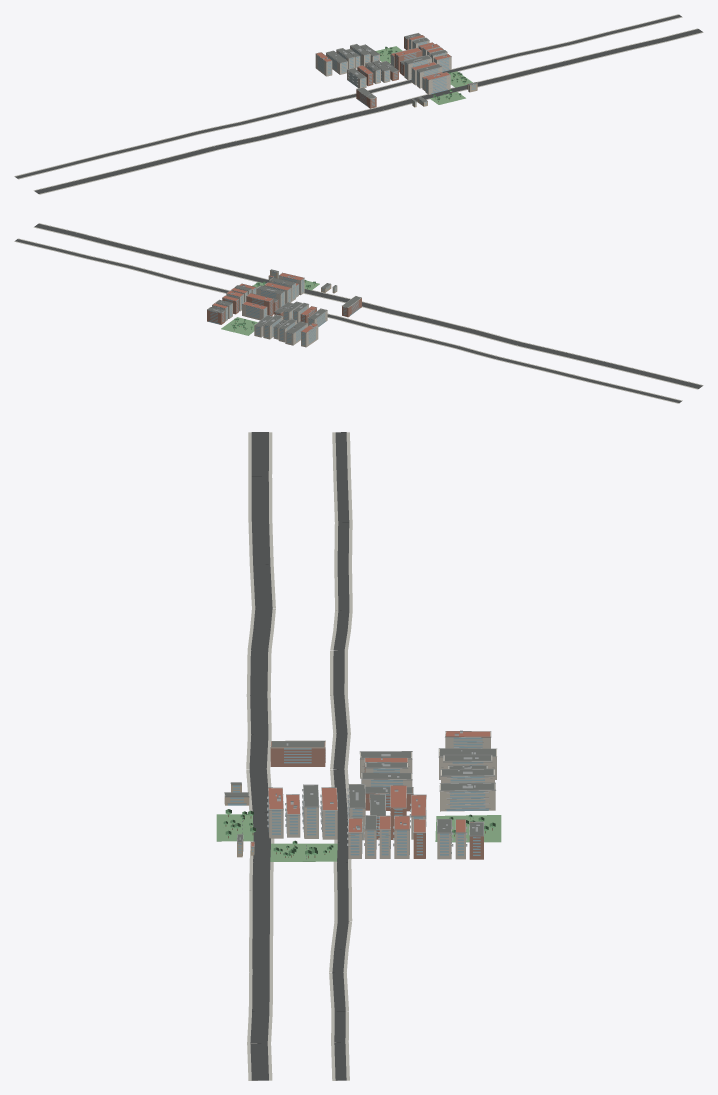
Rendered from tile-p000-p002.glb.
3 renders of one model, top to bottom at view 1: azimuth 30°, elevation 25°; view 2: azimuth 150°, elevation 25°; view 3: azimuth 270°, elevation 25°, orthographic. The views are drawn at different scales.
Visible parts, largest first — view 1: road-h-17-mesh-1, road-h-18-mesh-3, road-h-17-mesh-0, road-h-18-mesh-2, building-0742-mesh-110; view 2: road-h-17-mesh-1, road-h-18-mesh-3, road-h-17-mesh-0, road-h-18-mesh-2, neighborhood-park-block-182-mesh-9; view 3: road-h-17-mesh-1, road-h-18-mesh-3, road-h-17-mesh-0, road-h-18-mesh-2, neighborhood-park-block-196-mesh-14, building-0618-mesh-19.
Boxes of the visible parts, x1,y1,x2,y2 form: road-h-17-mesh-1: (34,29,702,193); road-h-18-mesh-3: (15,14,681,178); road-h-17-mesh-0: (33,28,703,194); road-h-18-mesh-2: (14,14,682,179); building-0742-mesh-110: (425,75,450,94); road-h-17-mesh-1: (34,223,702,388); road-h-18-mesh-3: (15,239,681,403); road-h-17-mesh-0: (33,223,703,389); road-h-18-mesh-2: (14,238,682,403); neighborhood-park-block-182-mesh-9: (221,317,257,335); road-h-17-mesh-1: (249,432,272,1080); road-h-18-mesh-3: (332,432,349,1080); road-h-17-mesh-0: (246,432,275,1080); road-h-18-mesh-2: (329,432,352,1080); neighborhood-park-block-196-mesh-14: (270,843,337,861); building-0618-mesh-19: (270,741,325,766).
Size of the model in its own units: 1600 by 38.63 by 297.
